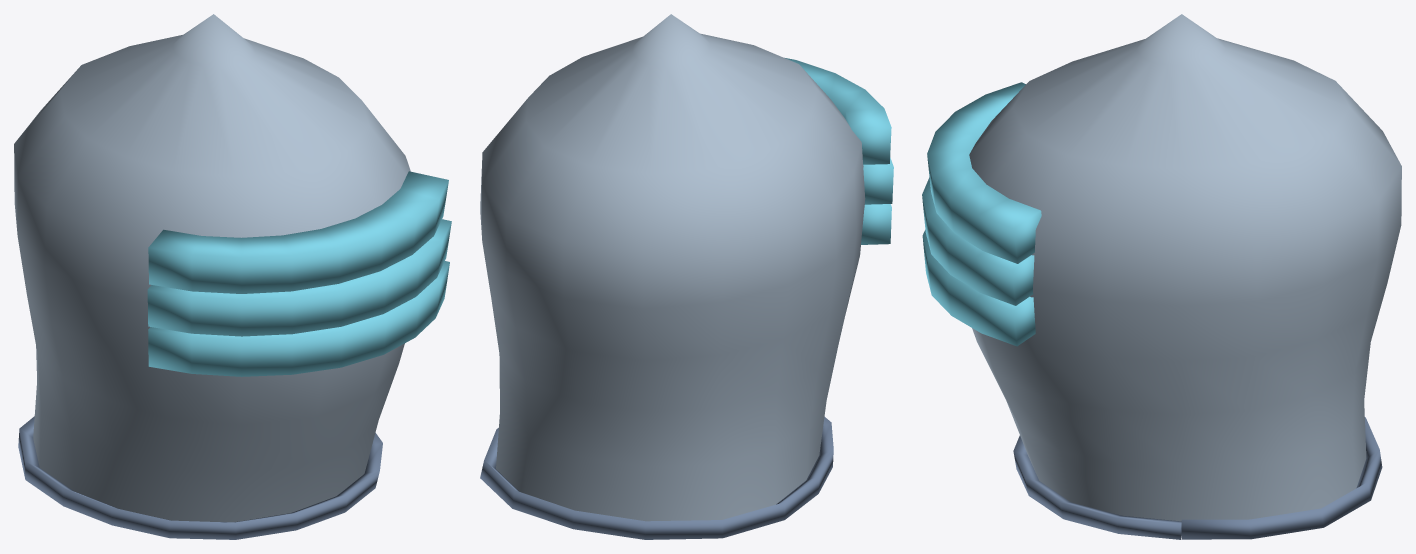
Rendered from titanium_armor_head.glb.
3 views of the same model, side by side, from view 1: azimuth 30°, elevation 25°; view 2: azimuth 150°, elevation 25°; view 3: azimuth 270°, elevation 25° (orthographic). The views are drawn at different scales.
Parts seen in each view (by area): view 1: titanium_armor_head; view 2: titanium_armor_head; view 3: titanium_armor_head.
Boxes of the visible parts, left/top/right/bottom form: titanium_armor_head: left=14, top=14, right=451, bottom=539; titanium_armor_head: left=480, top=14, right=893, bottom=539; titanium_armor_head: left=922, top=14, right=1401, bottom=539.
Size of the model in its own units: 0.2644 by 0.3431 by 0.3276.
